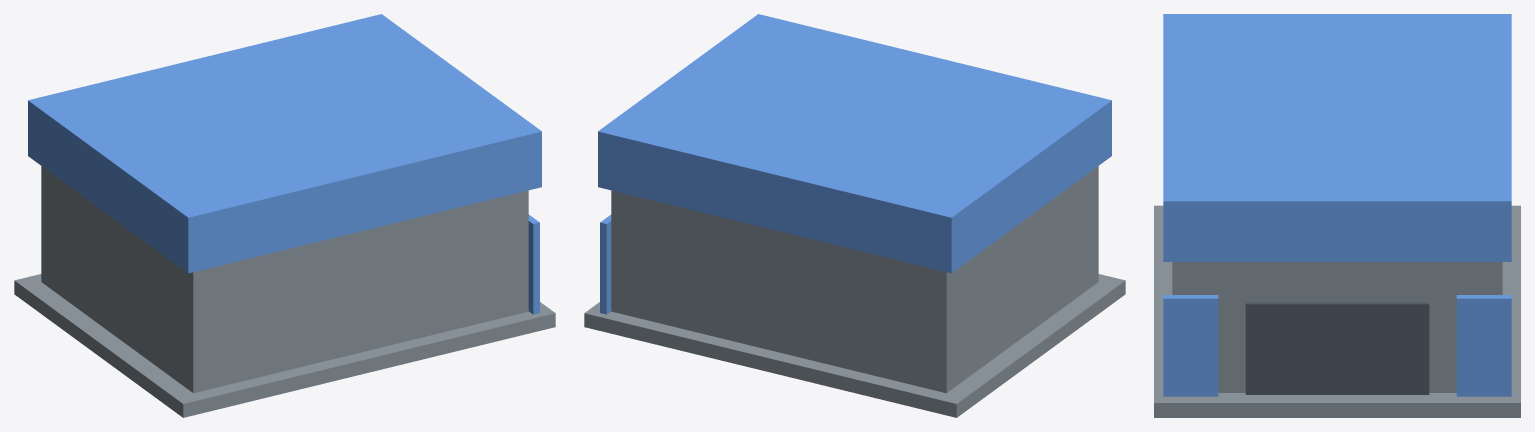
Rendered from voertuigfabriek.glb.
The picture shows the model from 3 angles, left to right: view 1: azimuth 30°, elevation 25°; view 2: azimuth 150°, elevation 25°; view 3: azimuth 270°, elevation 25°; orthographic projection. The views are drawn at different scales.
Parts seen in each view (by area): view 1: hull_team_LOD0, hull_steel_LOD0; view 2: hull_team_LOD0, hull_steel_LOD0; view 3: hull_team_LOD0, hull_steel_LOD0, hull_dark_LOD0.
Boxes of the visible parts, x1,y1,x2,y2 form: hull_team_LOD0: (28, 14, 541, 314); hull_steel_LOD0: (14, 166, 555, 417); hull_team_LOD0: (598, 14, 1111, 314); hull_steel_LOD0: (584, 166, 1125, 417); hull_team_LOD0: (1163, 14, 1511, 396); hull_steel_LOD0: (1154, 205, 1520, 417); hull_dark_LOD0: (1245, 302, 1429, 394).
Size of what is drawn, in the model's own units: 14 by 7 by 11.
